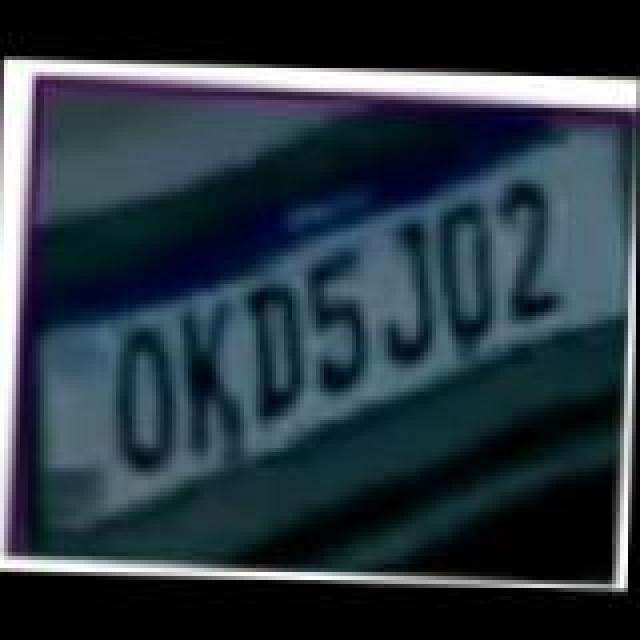2: (500, 184, 572, 324)
5: (308, 254, 380, 402)
D: (246, 284, 314, 428), (434, 200, 502, 344)
J: (376, 220, 440, 368)
K: (176, 304, 252, 464)
O: (116, 328, 184, 480)
